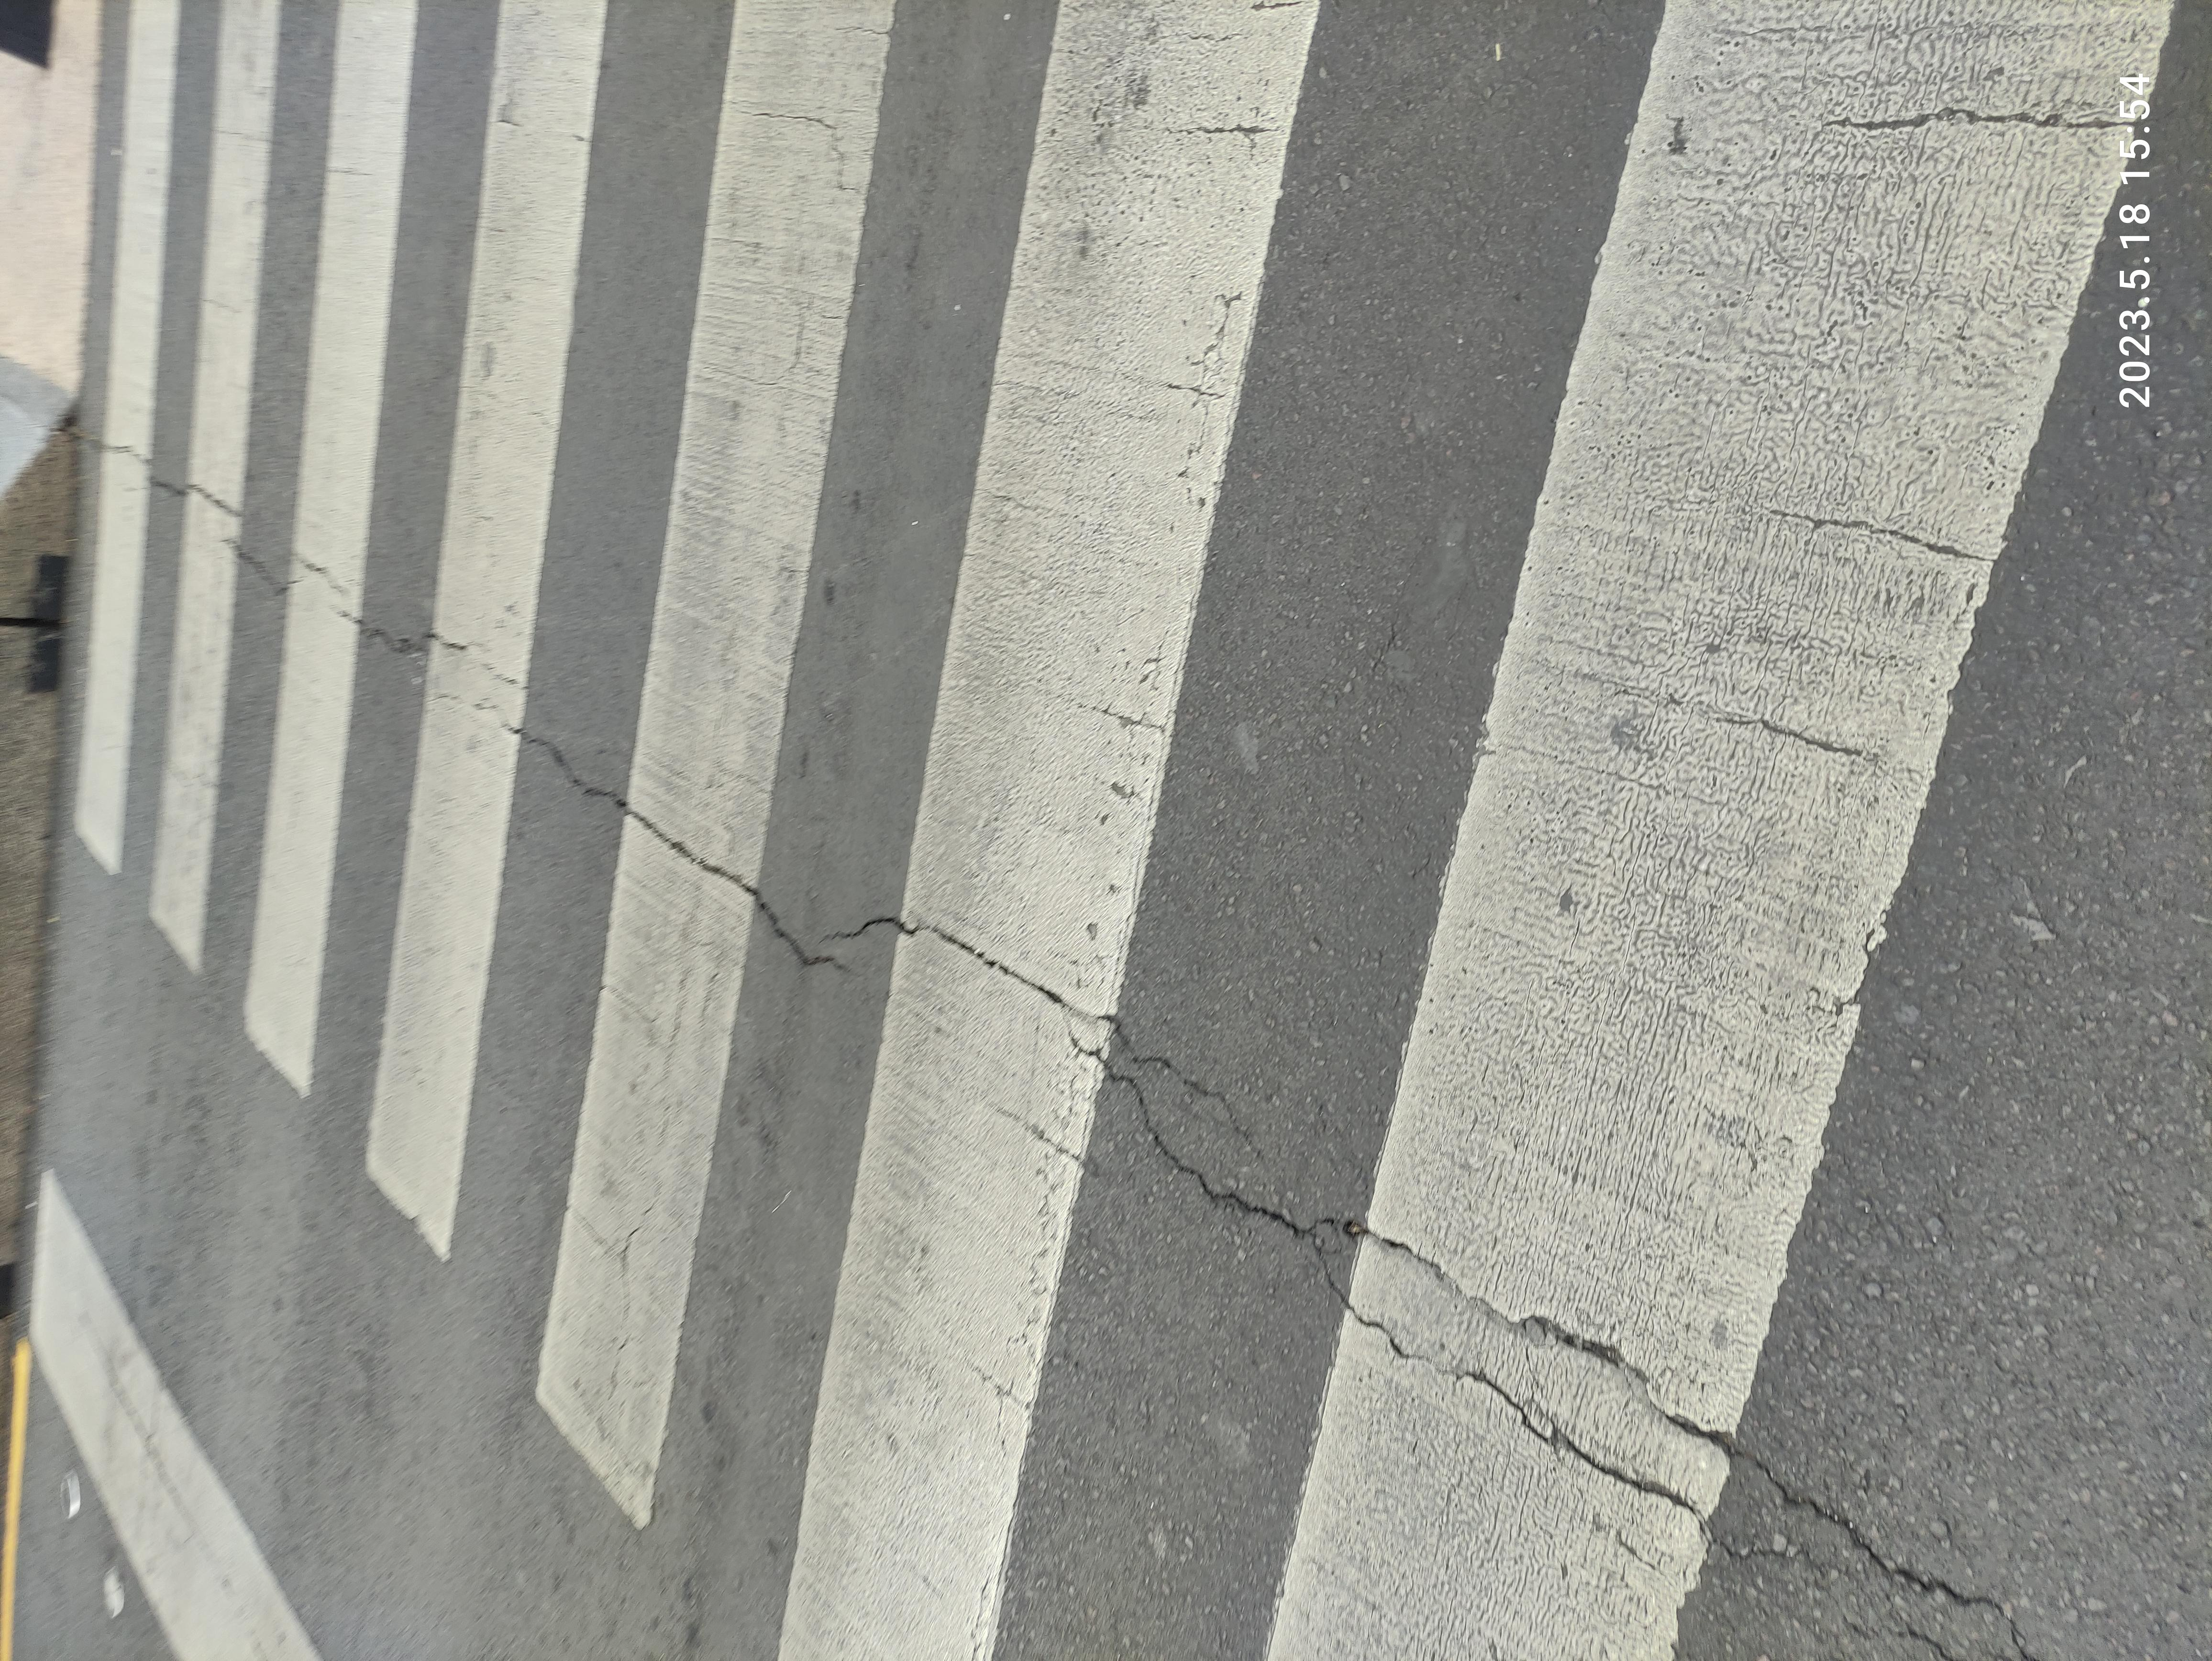crack: (26, 40, 1821, 1523)
